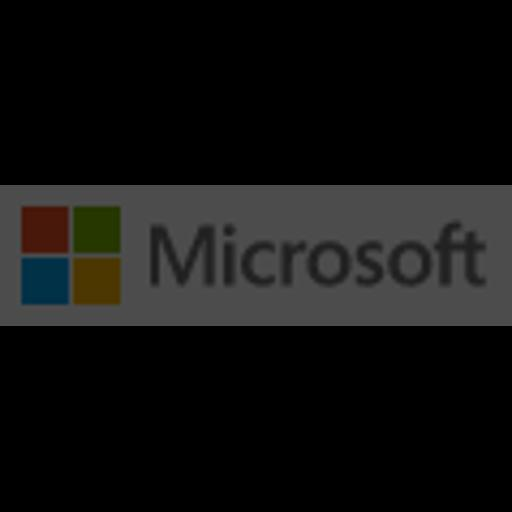Outlook: (0, 185, 512, 326)
